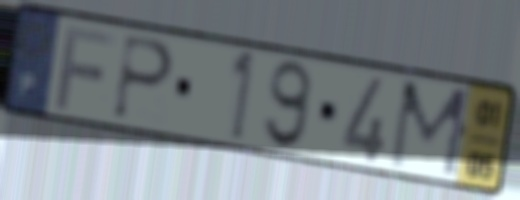1: (228, 48, 259, 148)
4: (338, 73, 388, 165)
9: (262, 57, 316, 154)
F: (52, 21, 121, 113)
M: (384, 77, 476, 182)
P: (109, 31, 177, 125)
